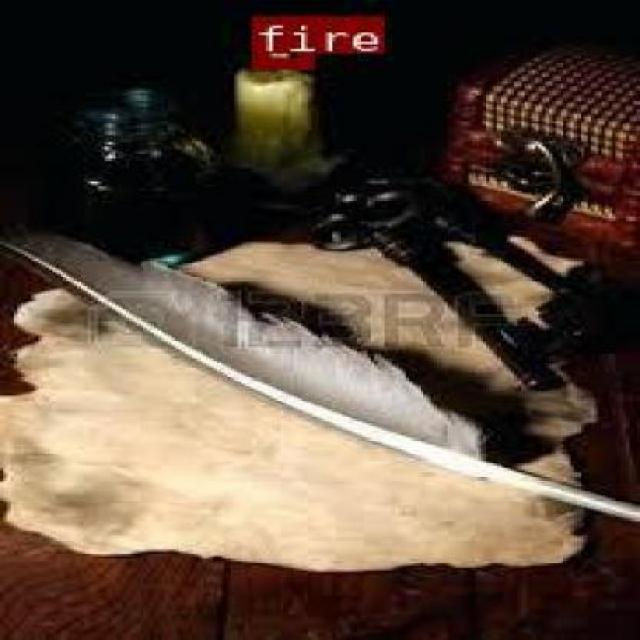Fire: (269, 50, 293, 62)
